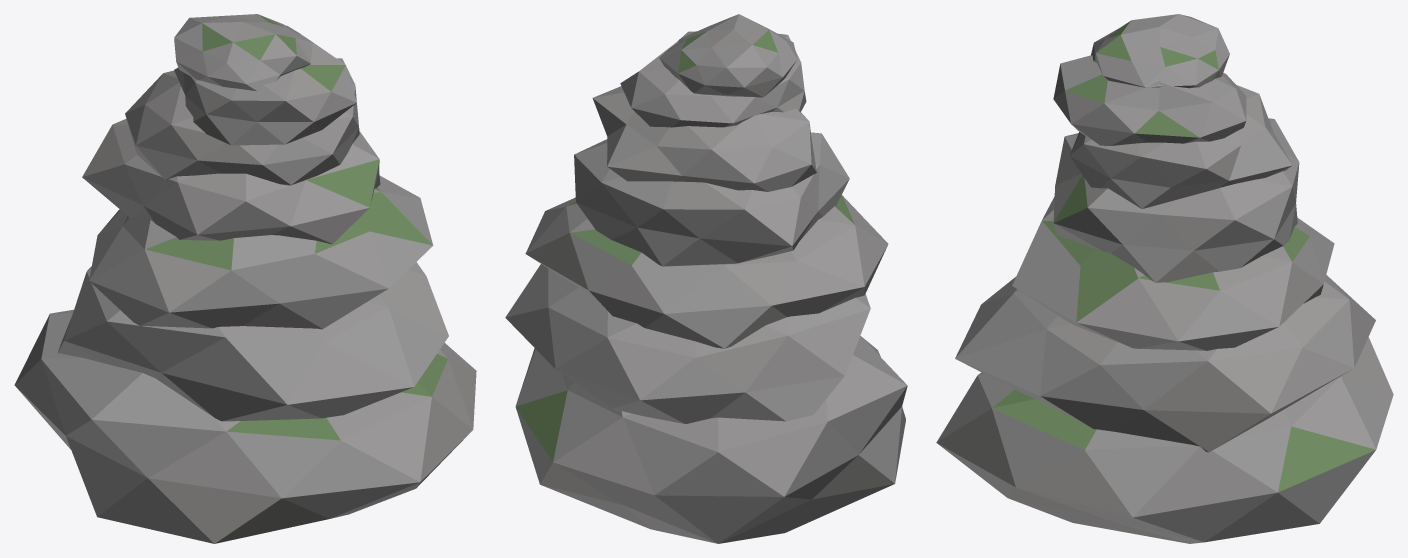
File: cairn.glb
3 renders of one model, left to right at view 1: azimuth 30°, elevation 25°; view 2: azimuth 150°, elevation 25°; view 3: azimuth 270°, elevation 25°, orthographic. The views are drawn at different scales.
Parts seen in each view (by area): view 1: cairn; view 2: cairn; view 3: cairn.
Boxes of the visible parts, x1,y1,x2,y2 form: cairn: (14, 14, 476, 543); cairn: (505, 14, 907, 543); cairn: (936, 14, 1393, 543).
Size of the model in its own units: 1.2 by 1.44 by 1.25.
